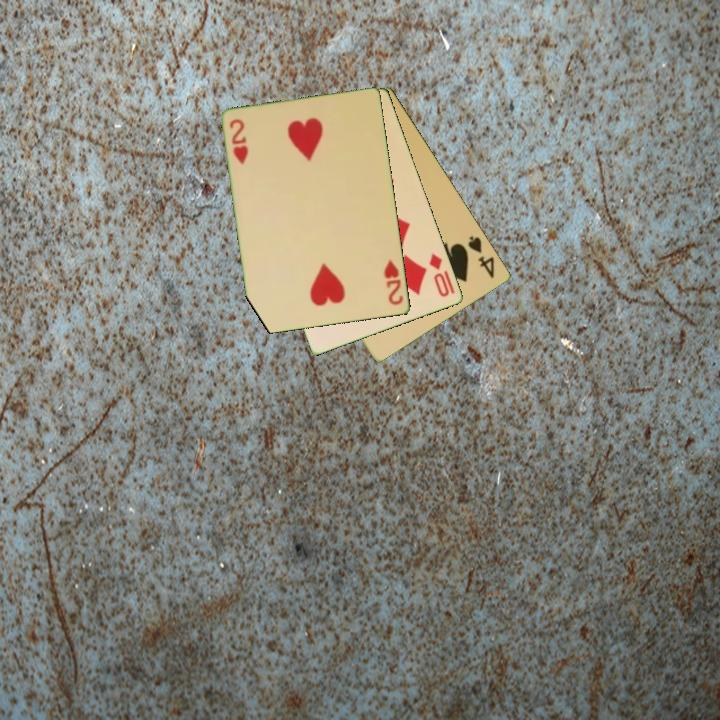10d: (426, 250, 453, 300)
2h: (381, 256, 406, 308), (226, 116, 251, 168)
4s: (465, 232, 498, 282)
